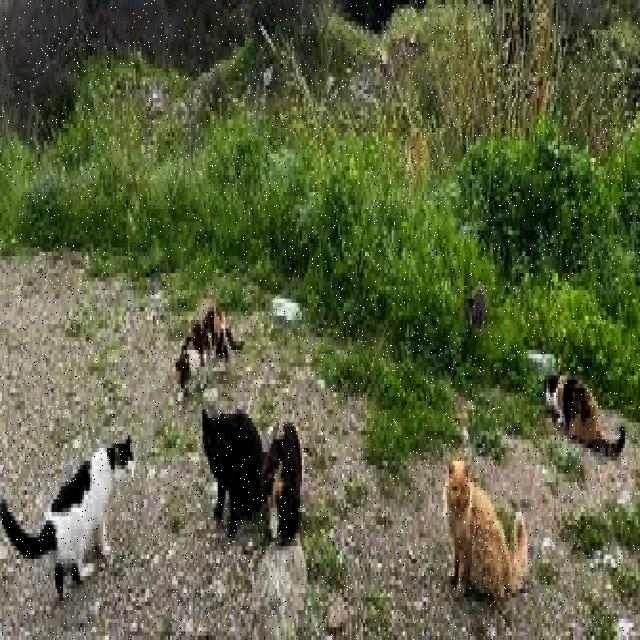cat: (0, 438, 134, 596), (444, 463, 526, 599), (202, 410, 261, 535), (545, 374, 623, 454), (176, 299, 242, 387), (264, 424, 301, 539), (465, 290, 484, 327)
